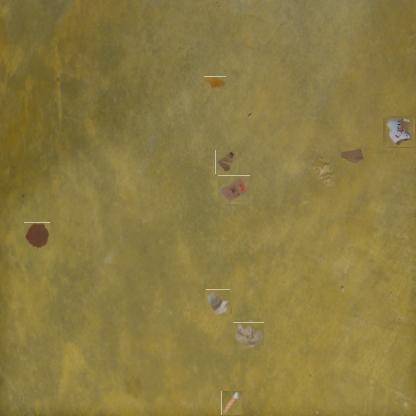dirty: (219, 175, 250, 205), (384, 118, 414, 147), (235, 320, 262, 348), (206, 290, 231, 315), (215, 151, 237, 174), (221, 391, 242, 415), (338, 146, 364, 164)
liquid: (24, 222, 50, 249), (204, 76, 226, 89)
